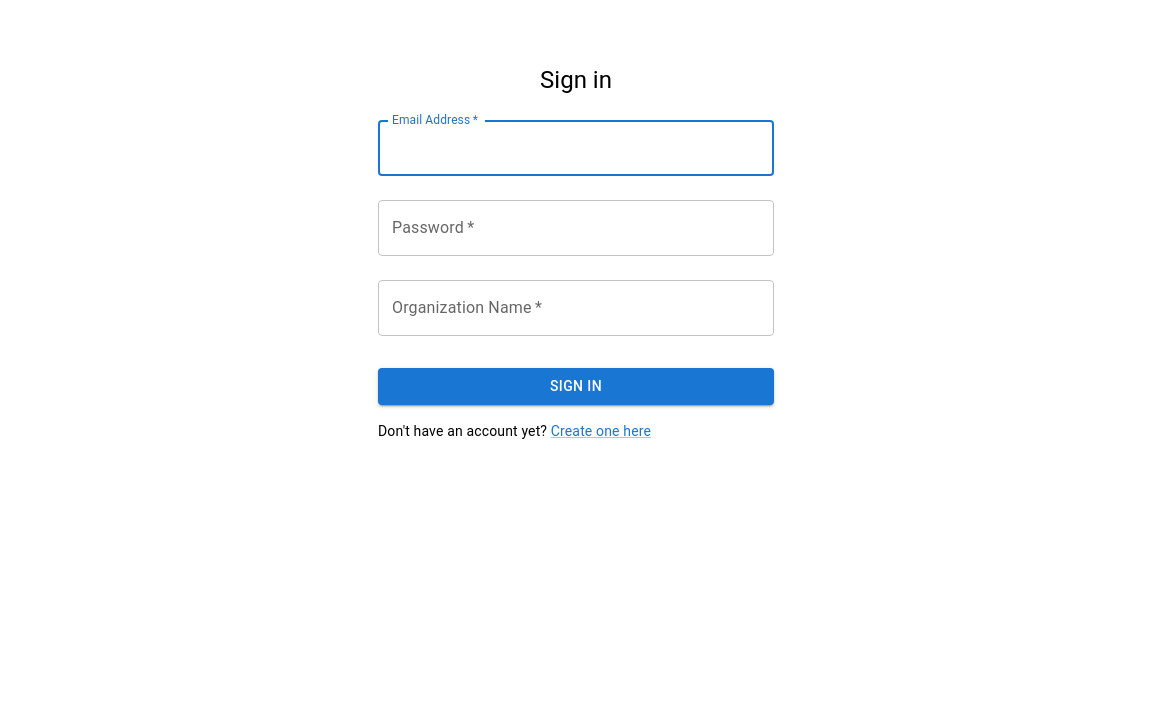
Test case: Employee Tests › Login Test
In the field named "email": (576, 148) top-left (378, 120), bottom-right (774, 176), type "employee1@email.com"
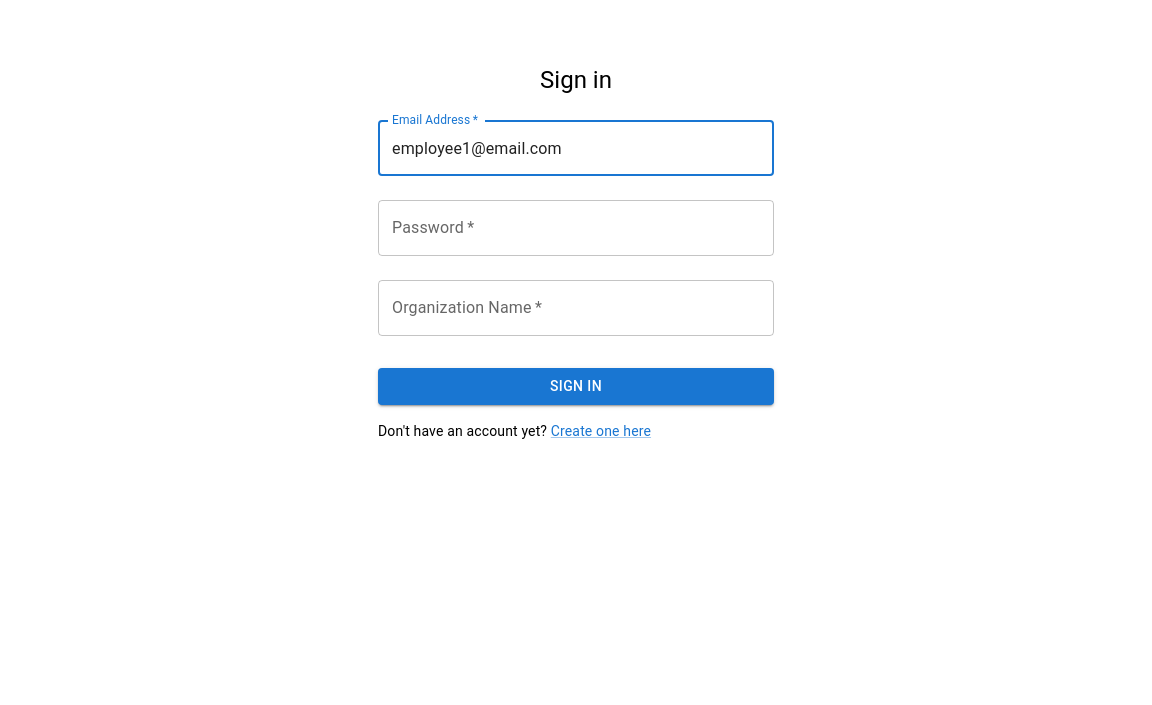
In the password field named "password": (576, 228) top-left (378, 200), bottom-right (774, 256), type "employee1"
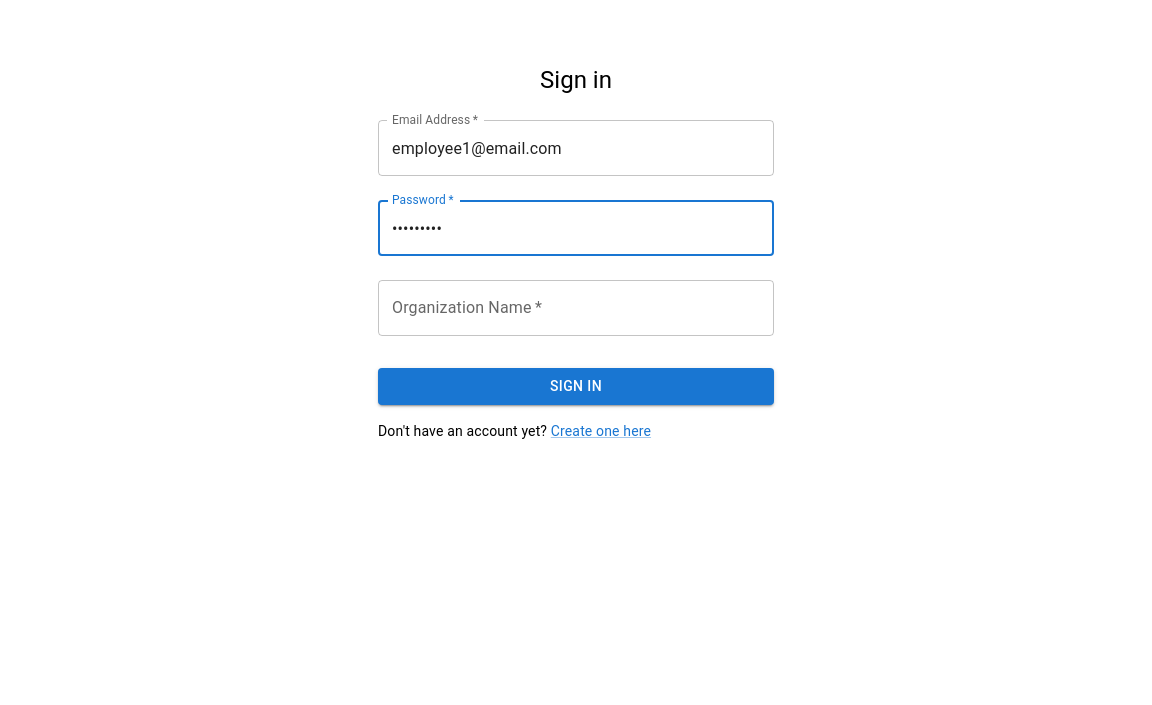
In the field named "orgName": (576, 308) top-left (378, 280), bottom-right (774, 336), type "org"
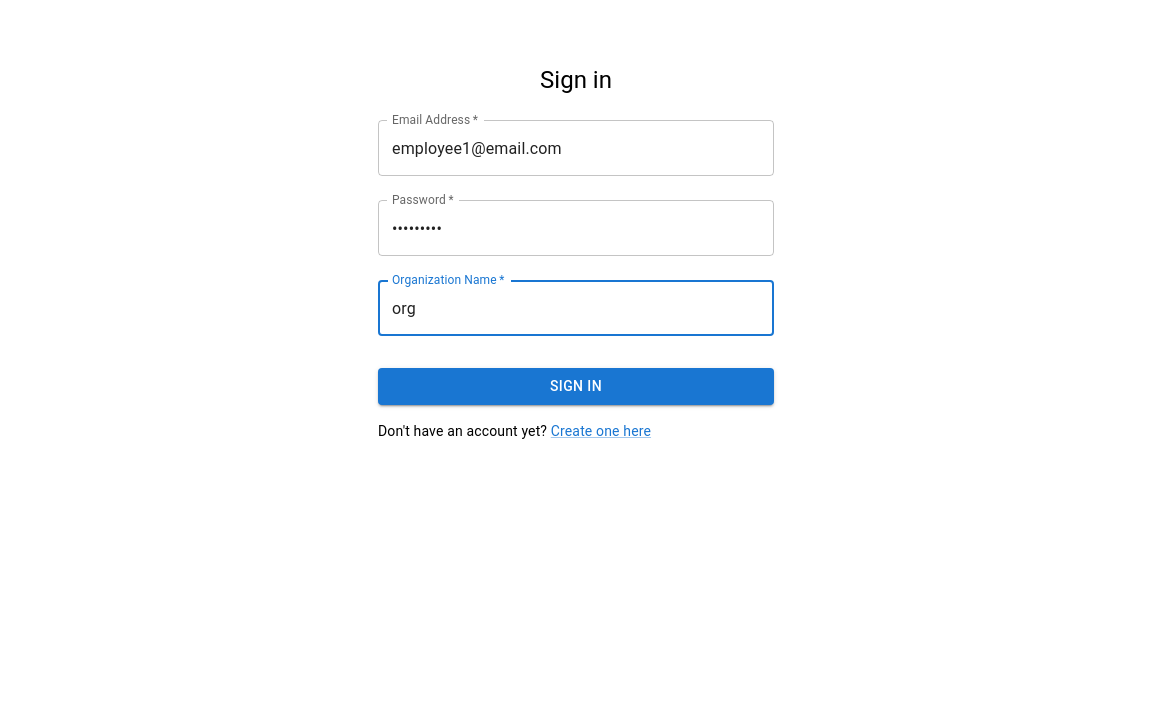
Click the submit button: (576, 387) top-left (378, 368), bottom-right (774, 405)
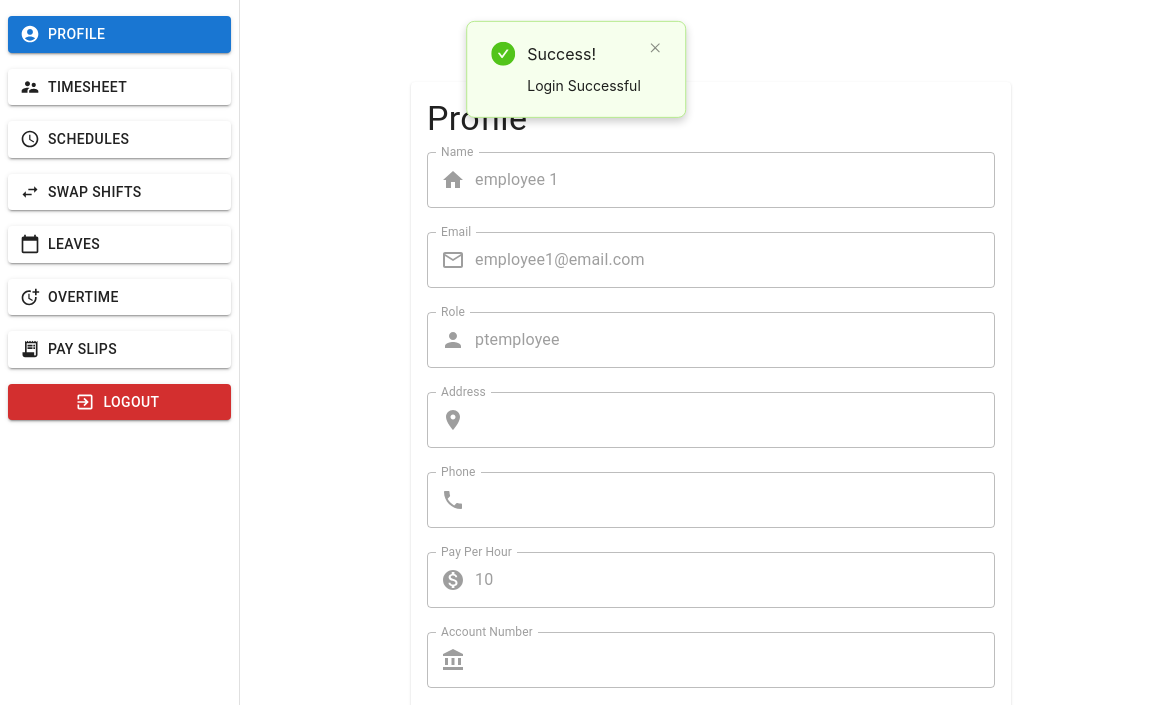
Now the field named "name" holds "employee 1", box top-left (475, 152), bottom-right (995, 208)
Now the field named "email" holds "employee1@email.com", box top-left (475, 232), bottom-right (995, 288)
Now the field named "role" holds "ptemployee", box top-left (475, 312), bottom-right (995, 368)
